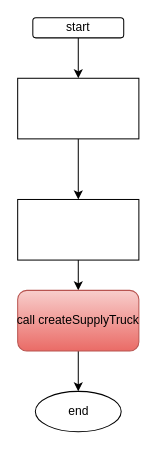
Some shapes in this 157 by 449 pixel diagram are drawn without their labels. Each missing label, with the box of its shape:
construct the stock man trigger object: (17, 198, 139, 260)
get the truck id and npc appear point: (17, 77, 139, 139)
